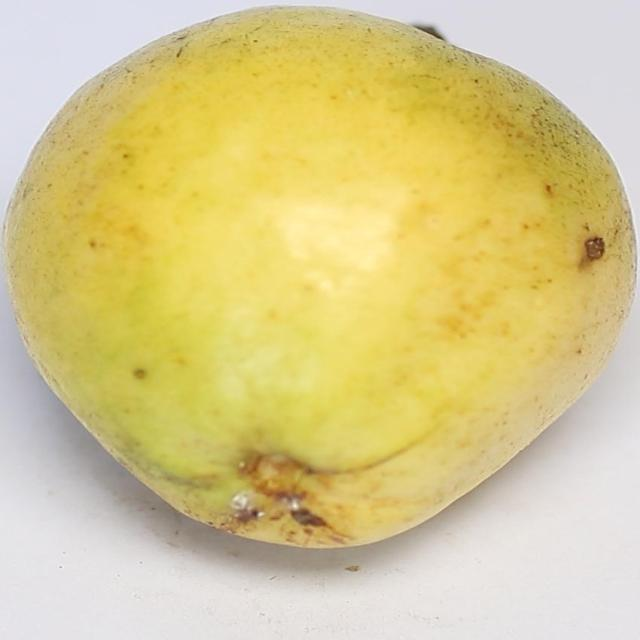Good_Guava: (1, 5, 638, 552)
